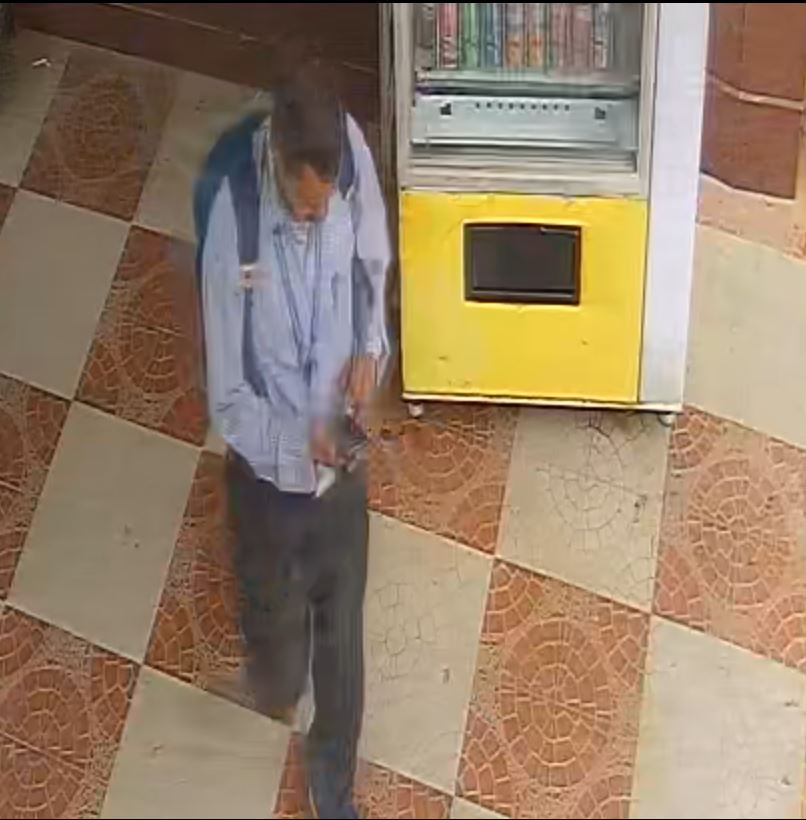not intruder: (199, 54, 392, 820)
